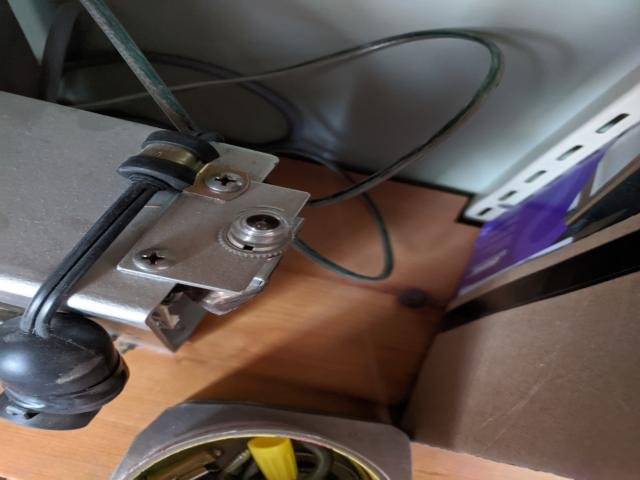CRS: (205, 169, 251, 194), (133, 248, 174, 270)
